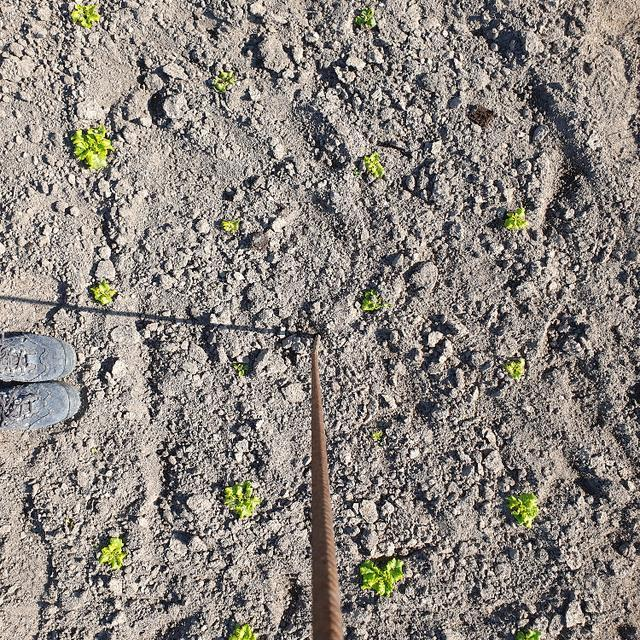Healthy: (70, 125, 114, 169), (360, 559, 404, 598), (224, 482, 261, 520), (509, 494, 540, 528), (98, 539, 127, 571), (71, 3, 100, 27), (362, 289, 392, 312), (90, 280, 116, 306), (505, 208, 530, 230), (365, 153, 385, 178), (214, 71, 235, 91), (356, 7, 377, 27), (506, 359, 526, 380), (229, 625, 257, 640), (516, 630, 543, 640), (222, 220, 239, 233)
